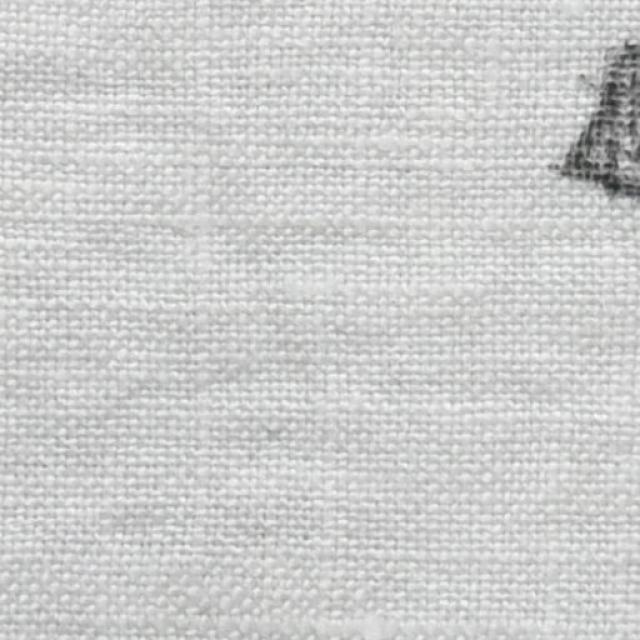Stain: (545, 38, 640, 208)
